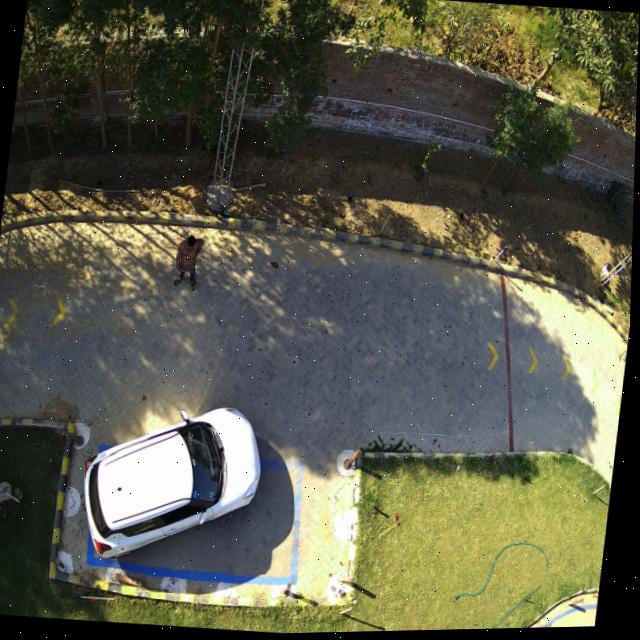car: (89, 409, 264, 558)
